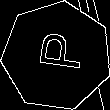P_W: (29, 34, 84, 78)
